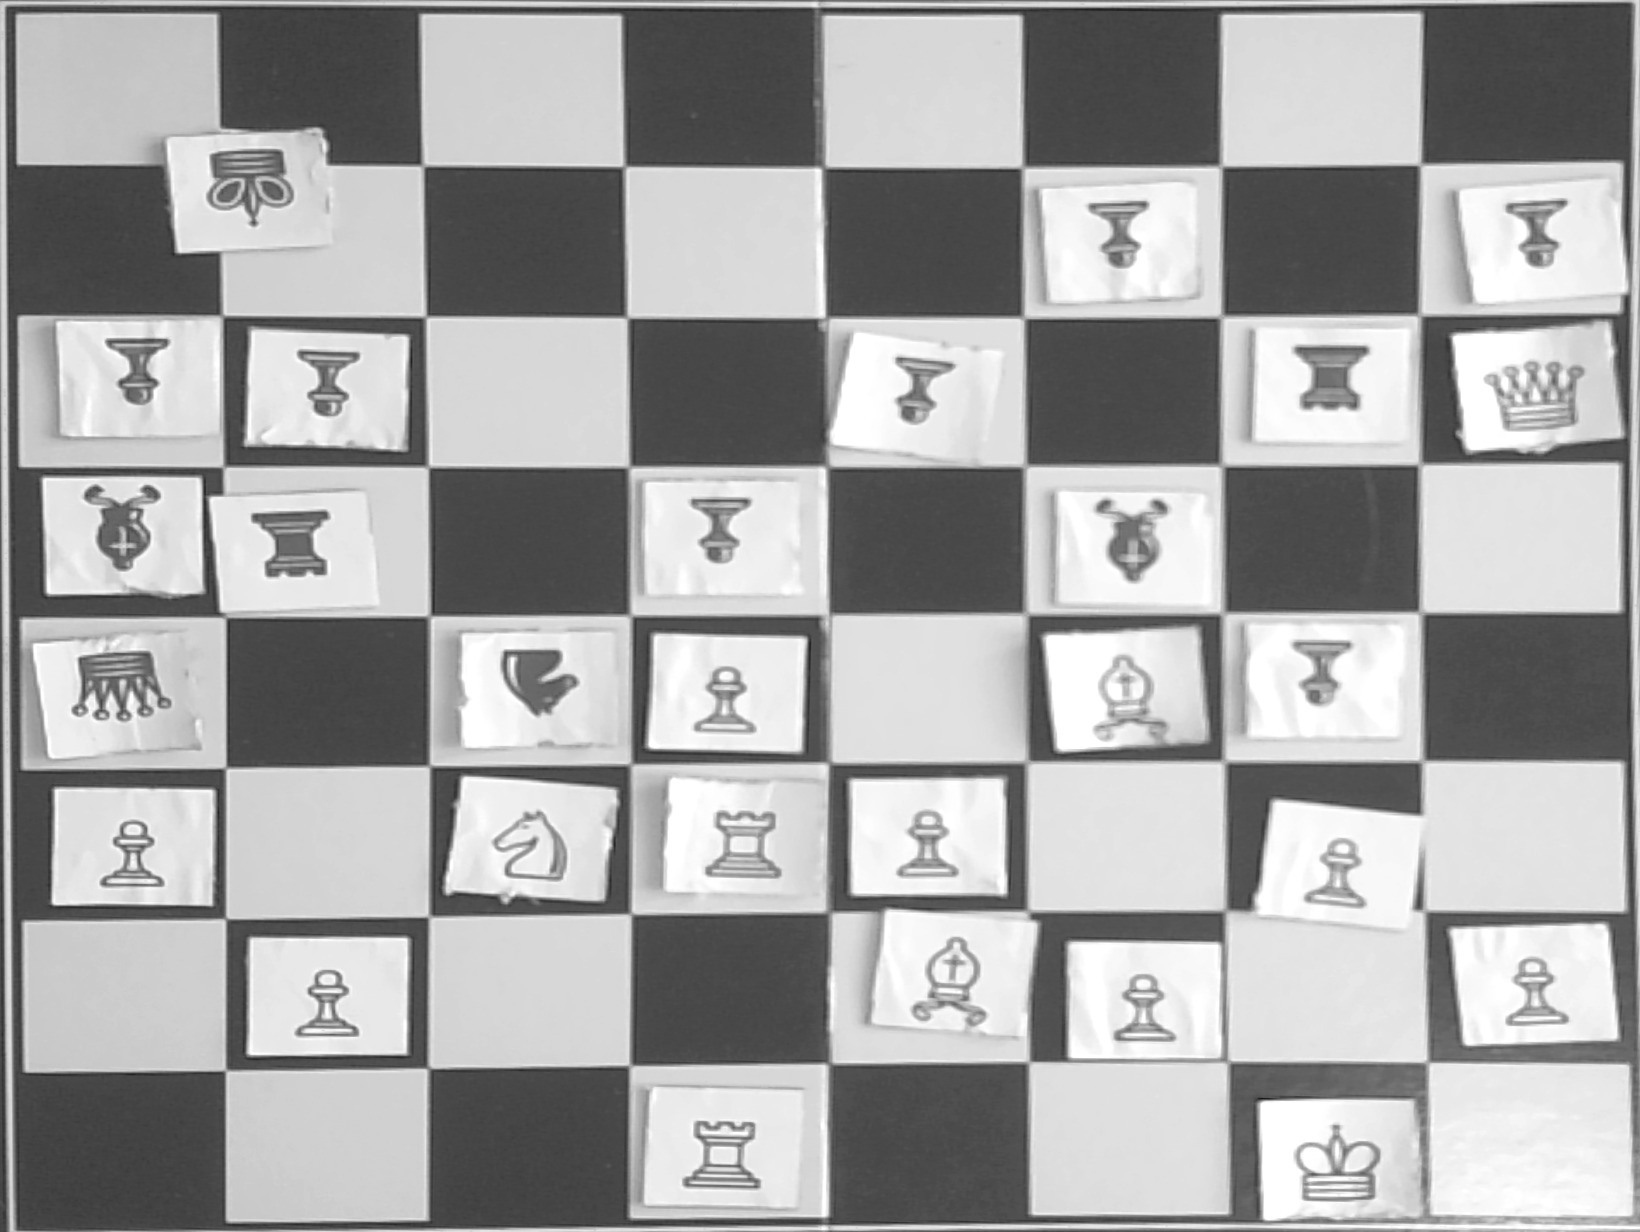b_bishop: (49, 479, 195, 589), (1055, 492, 1200, 602)
b_king: (183, 138, 312, 239)
b_knight: (474, 644, 601, 740)
b_pawn: (1269, 632, 1391, 736), (273, 333, 396, 437), (858, 348, 982, 452), (656, 490, 781, 594)
b_queen: (54, 646, 185, 742)
b_rook: (1265, 333, 1395, 434), (228, 502, 359, 603)
w_bishop: (1082, 630, 1202, 734), (897, 924, 1017, 1028)
w_king: (1275, 1110, 1406, 1210)
w_knight: (483, 793, 607, 890)
w_pawn: (661, 646, 770, 744), (871, 792, 979, 890), (1283, 824, 1391, 921)
w_queen: (1464, 340, 1606, 443)
w_rook: (654, 1100, 773, 1206), (676, 786, 795, 890)
